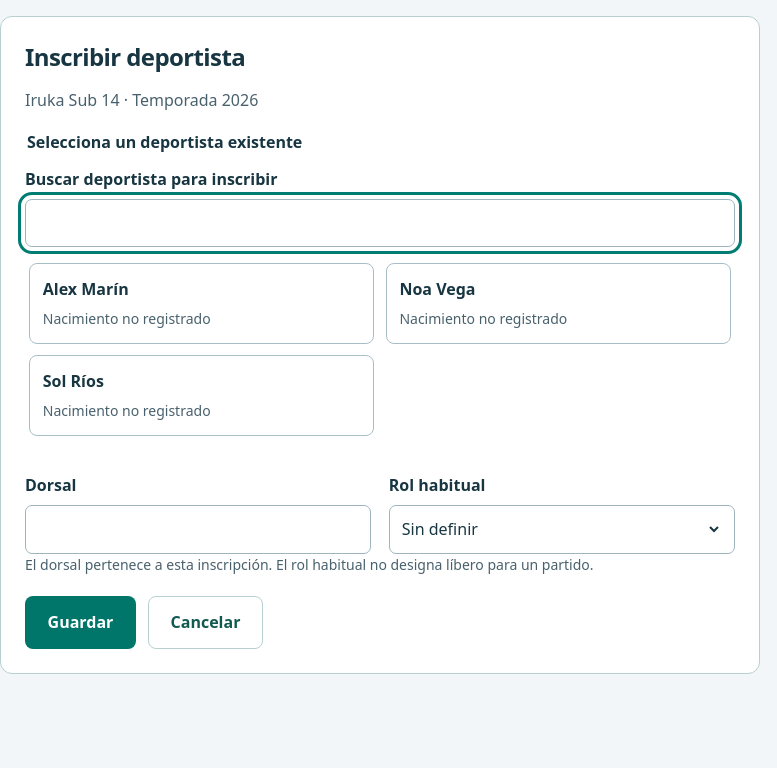
Test case: selección e inscripción de perfiles existentes › conserva selección, dorsal y rol después de un fallo de guardado
Click the button "Alex Marín Nacimiento no registrado": (86, 289) [29, 263, 374, 344]
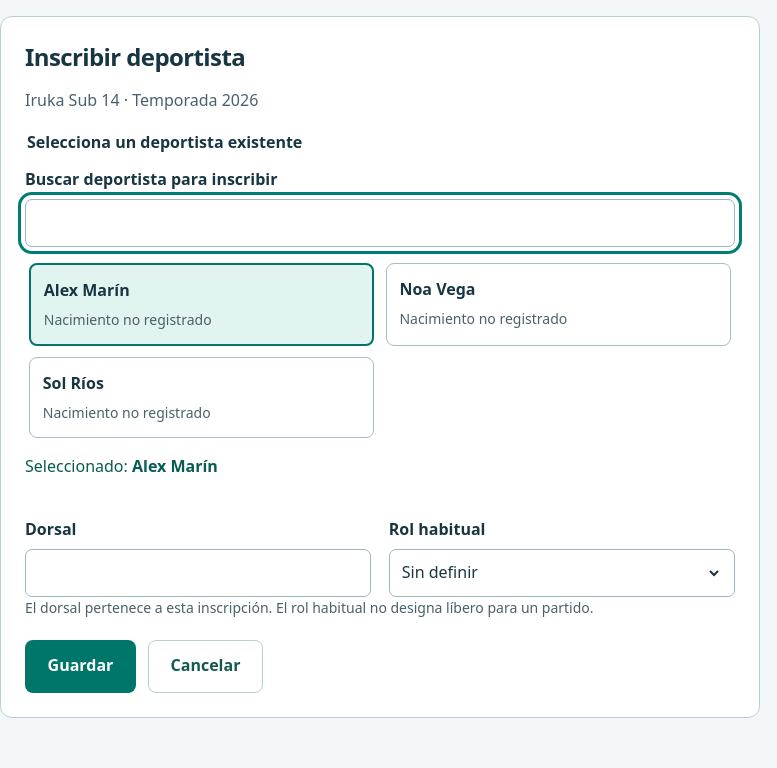
In the field labelled "Dorsal": (198, 573) [25, 549, 371, 597], type "5"
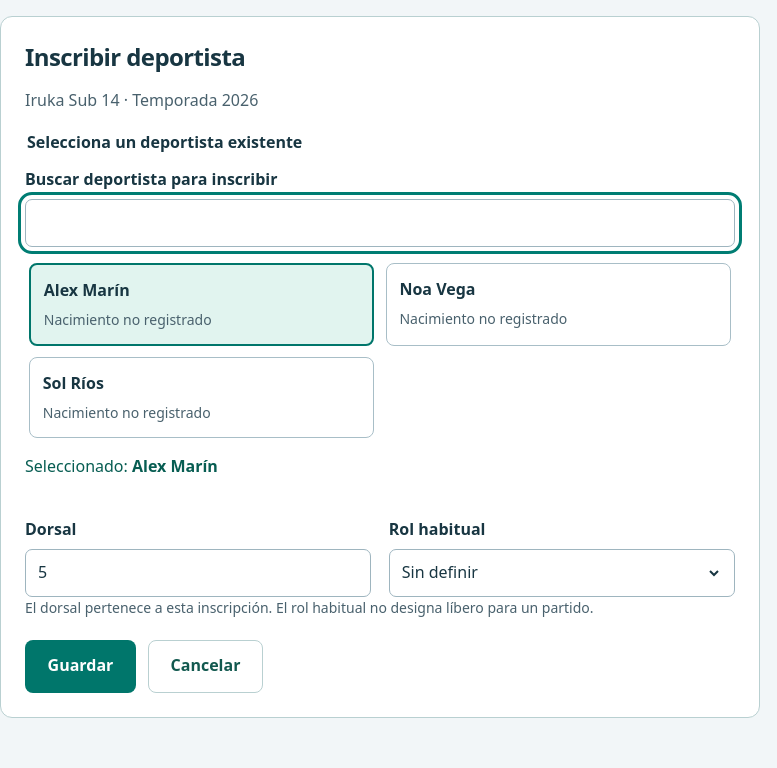
Select "Central" in the dropdown labelled "Rol habitual": (562, 573) [389, 549, 735, 597]
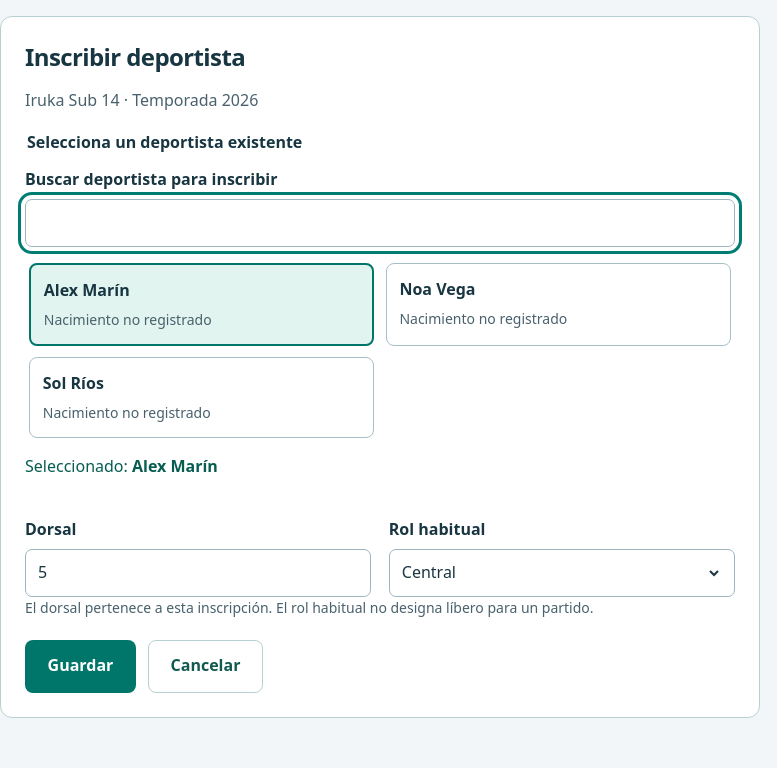
Click the button "Guardar": (80, 666) [25, 640, 136, 693]
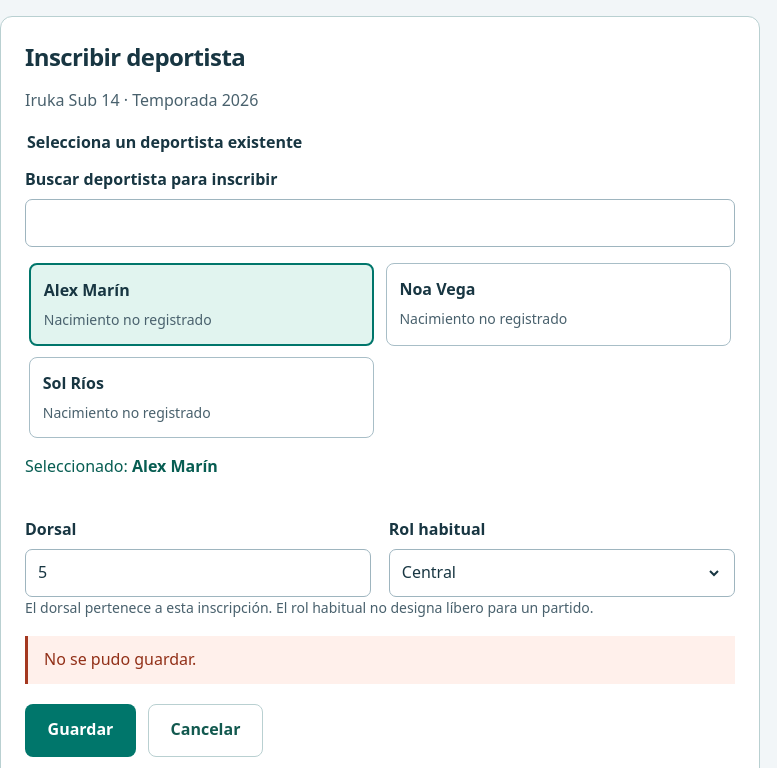
Expected: the message reads "No se pudo guardar.", [44, 648, 196, 670]
